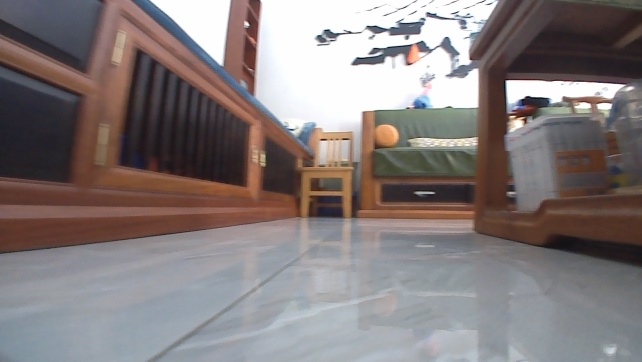TV_stand: (0, 0, 319, 258)
sofe1: (352, 105, 494, 222)
